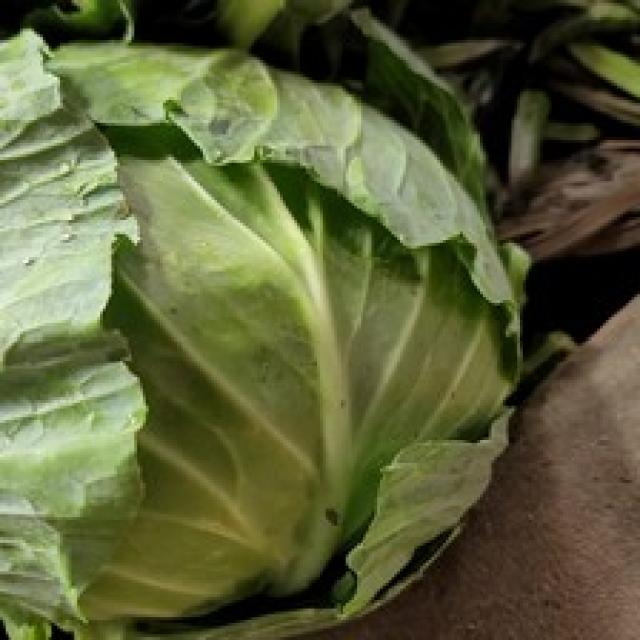Cabbage: (0, 0, 569, 637)
